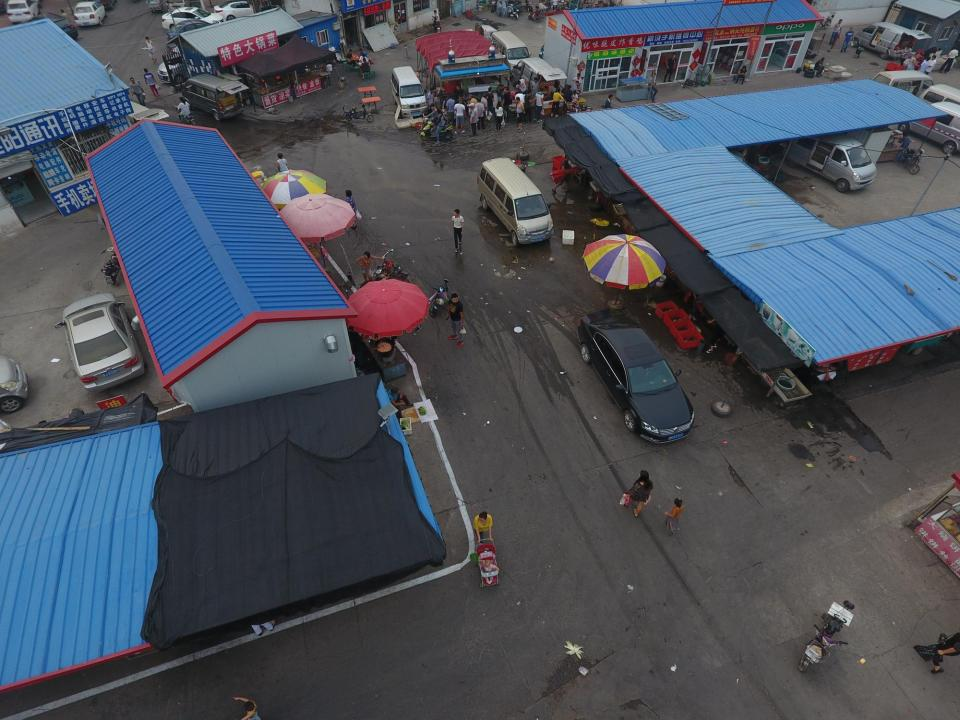car: (576, 308, 695, 443), (54, 293, 147, 393), (13, 12, 79, 44), (162, 7, 225, 33), (213, 1, 282, 23), (73, 1, 106, 28), (7, 0, 38, 24)
truck: (439, 25, 500, 54)
van: (477, 158, 554, 246), (786, 130, 876, 192), (896, 101, 960, 155), (182, 73, 250, 120), (103, 94, 169, 140), (851, 22, 931, 59), (867, 70, 937, 110), (156, 36, 211, 84), (914, 84, 960, 137), (512, 58, 568, 99), (391, 65, 427, 118), (490, 31, 532, 76)
